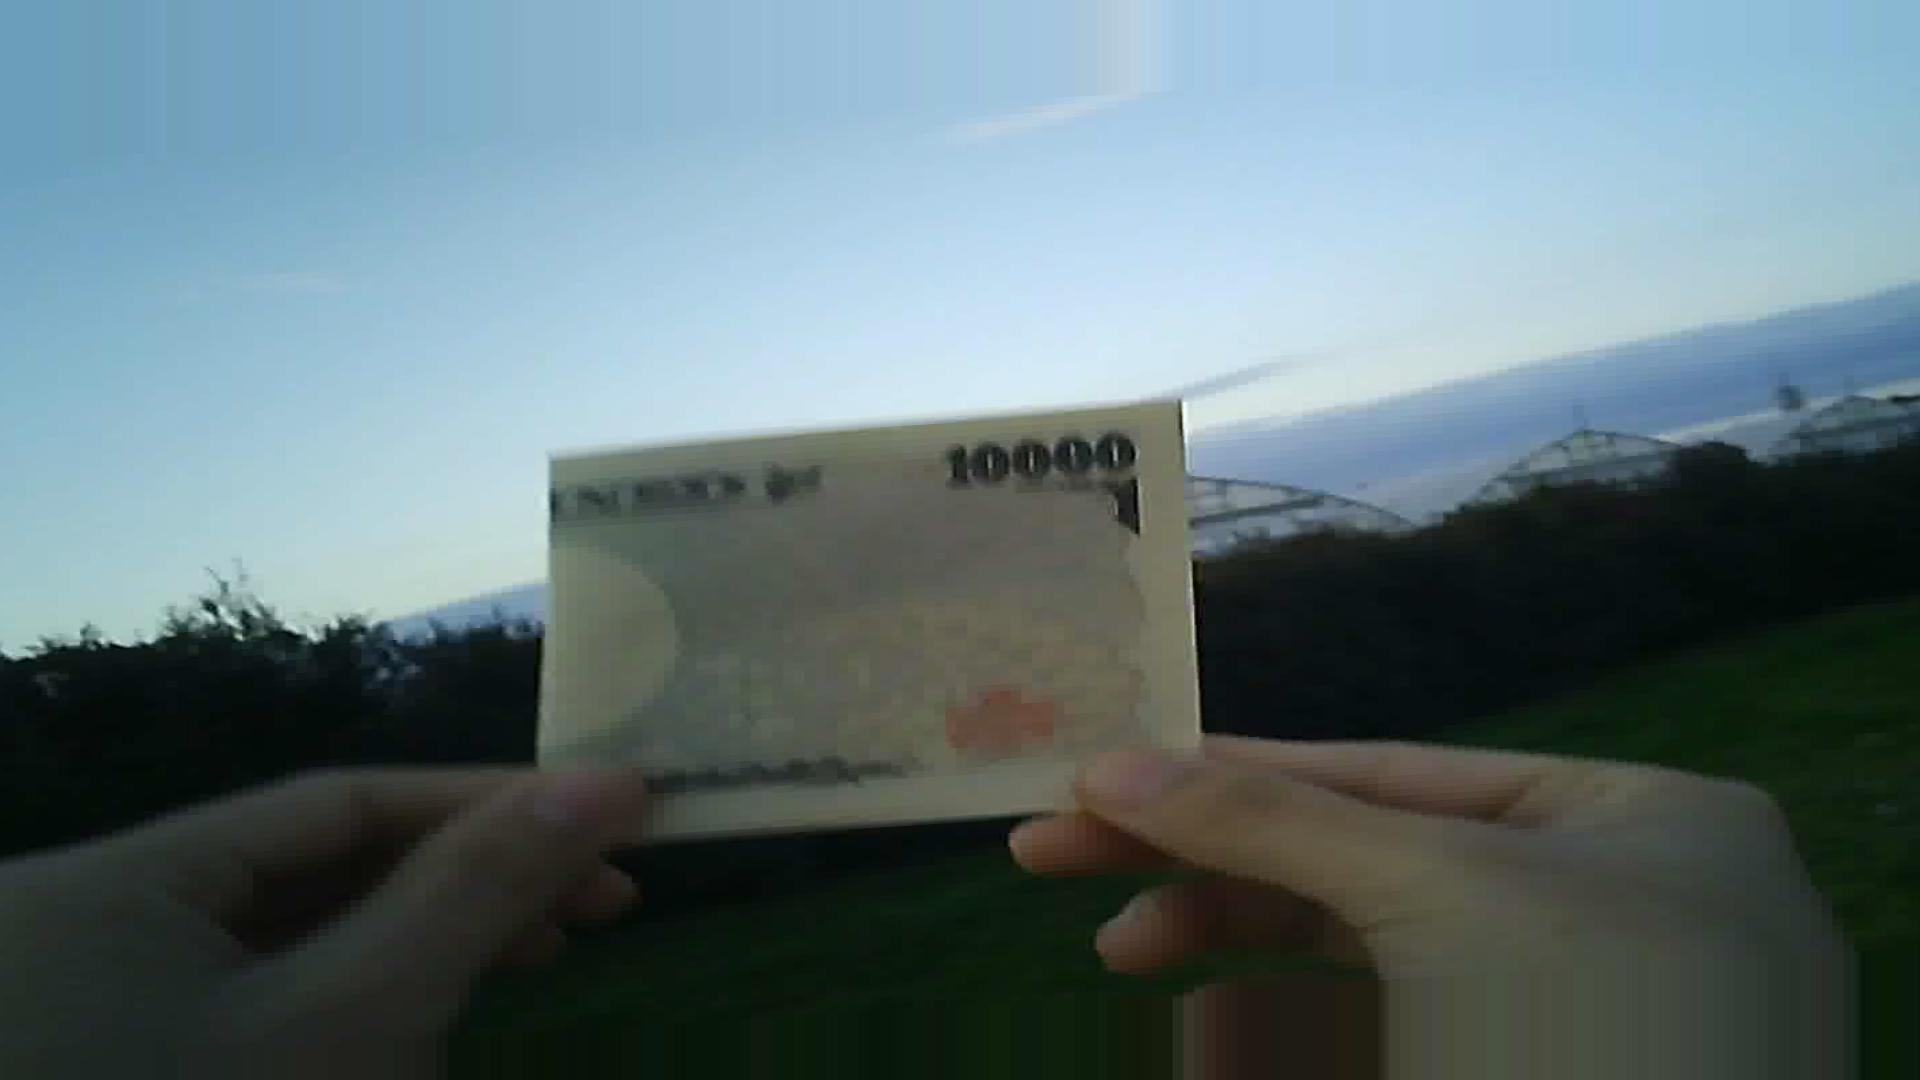10,000 Yen: (520, 407, 1205, 820)
